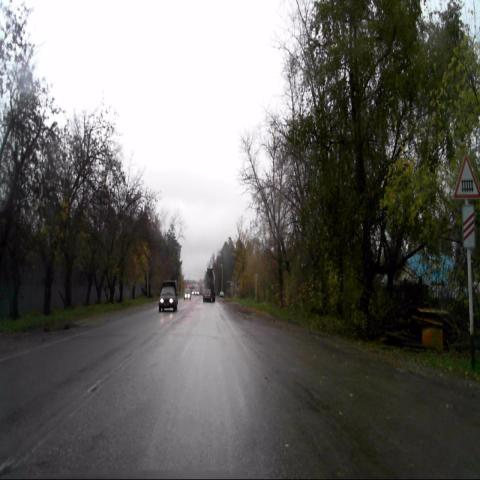1_1: (454, 154, 480, 198)
